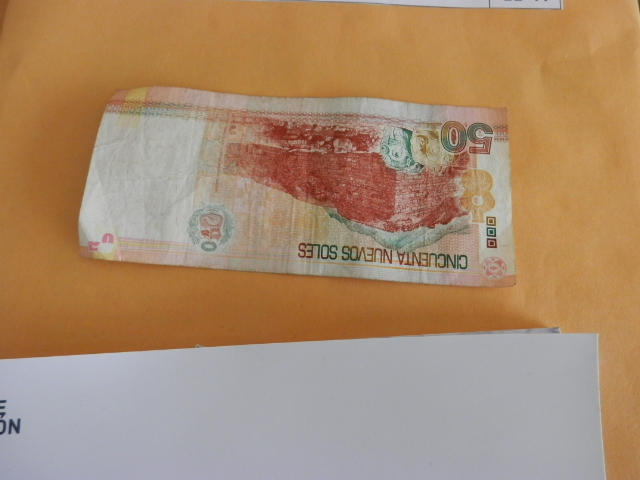B50: (79, 88, 523, 293)
